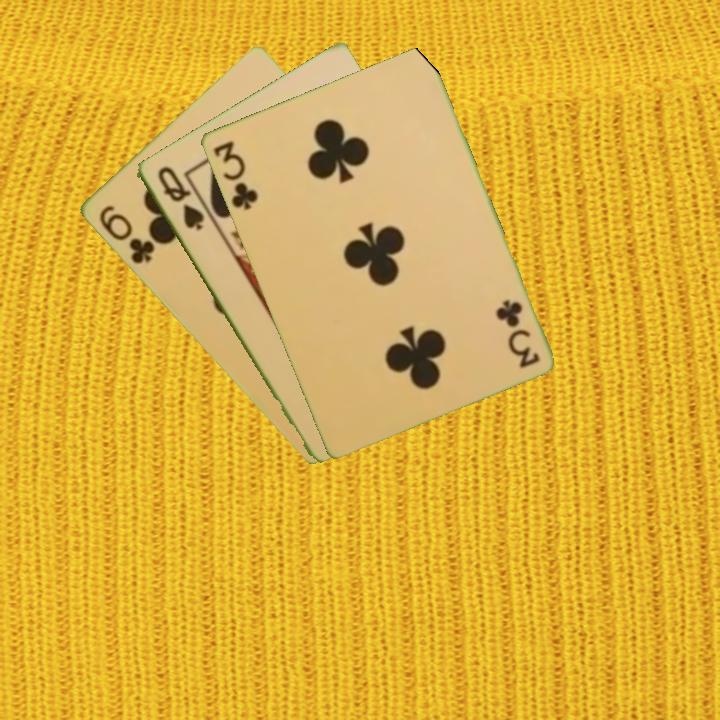3c: (209, 136, 261, 213), (493, 296, 542, 371)
6c: (95, 201, 157, 268)
Qs: (153, 162, 207, 234)
